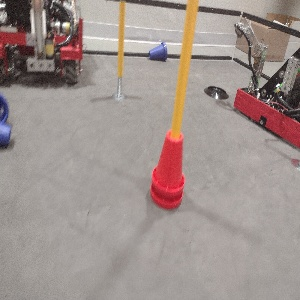Blue_1: (142, 28, 173, 64)
Red_2: (140, 123, 190, 212)
